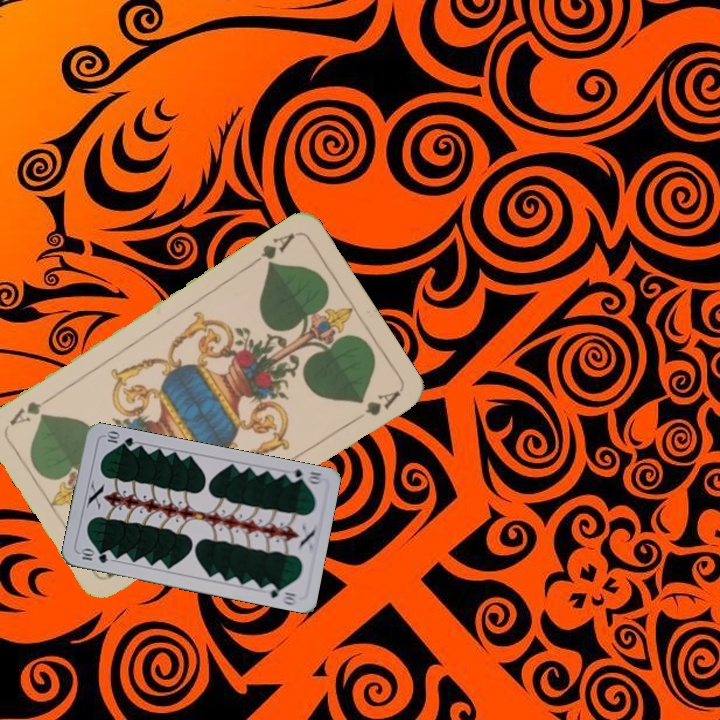G10: (283, 465, 324, 487), (76, 545, 111, 566)
GA: (246, 228, 298, 270)
